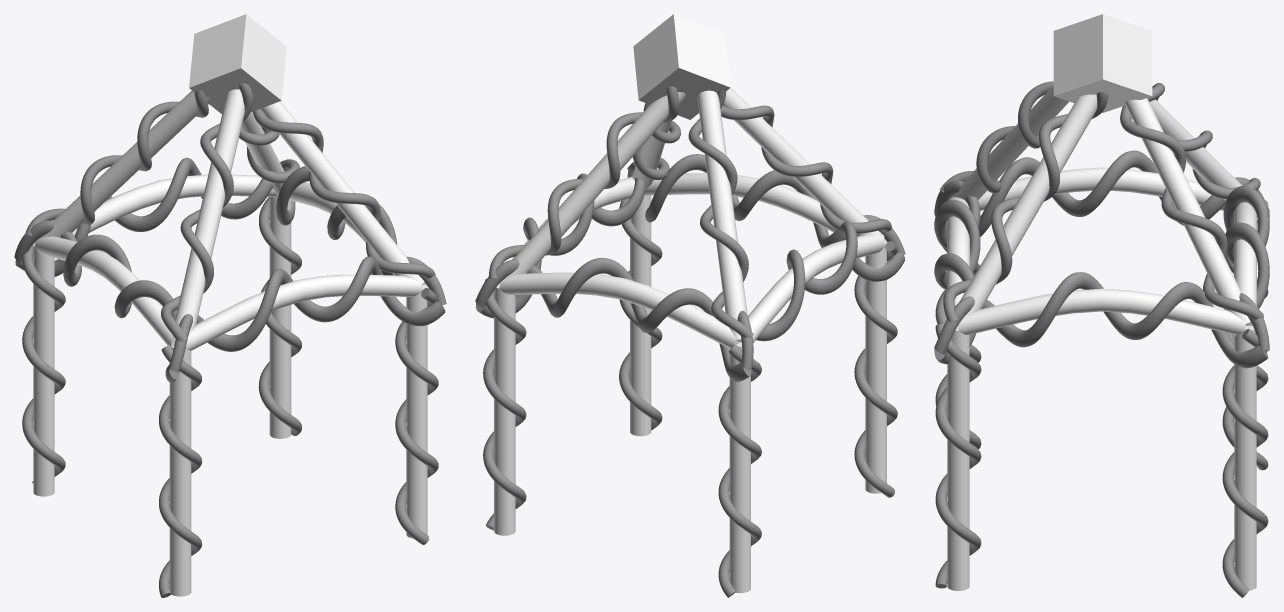
The model's file is venatacorrect_building_fire.FBX.
3 views of the same model, side by side, from view 1: azimuth 30°, elevation 25°; view 2: azimuth 150°, elevation 25°; view 3: azimuth 270°, elevation 25° (orthographic). The views are drawn at different scales.
Parts seen in each view (by area): view 1: Cylinder001, Helix001, Box001; view 2: Cylinder001, Helix001, Box001; view 3: Cylinder001, Helix001, Box001.
Part boxes in pixels (left/top/right/bottom): Cylinder001: left=33, top=89, right=427, bottom=596; Helix001: left=14, top=74, right=446, bottom=597; Box001: left=189, top=14, right=286, bottom=113; Cylinder001: left=494, top=88, right=886, bottom=593; Helix001: left=475, top=86, right=905, bottom=597; Box001: left=633, top=14, right=730, bottom=119; Cylinder001: left=947, top=85, right=1256, bottom=590; Helix001: left=934, top=81, right=1269, bottom=597; Box001: left=1053, top=14, right=1152, bottom=112.
Bounding box in the file's own units: 58.51 × 101 × 58.51.
Materials: 2 (1 with a texture image).
